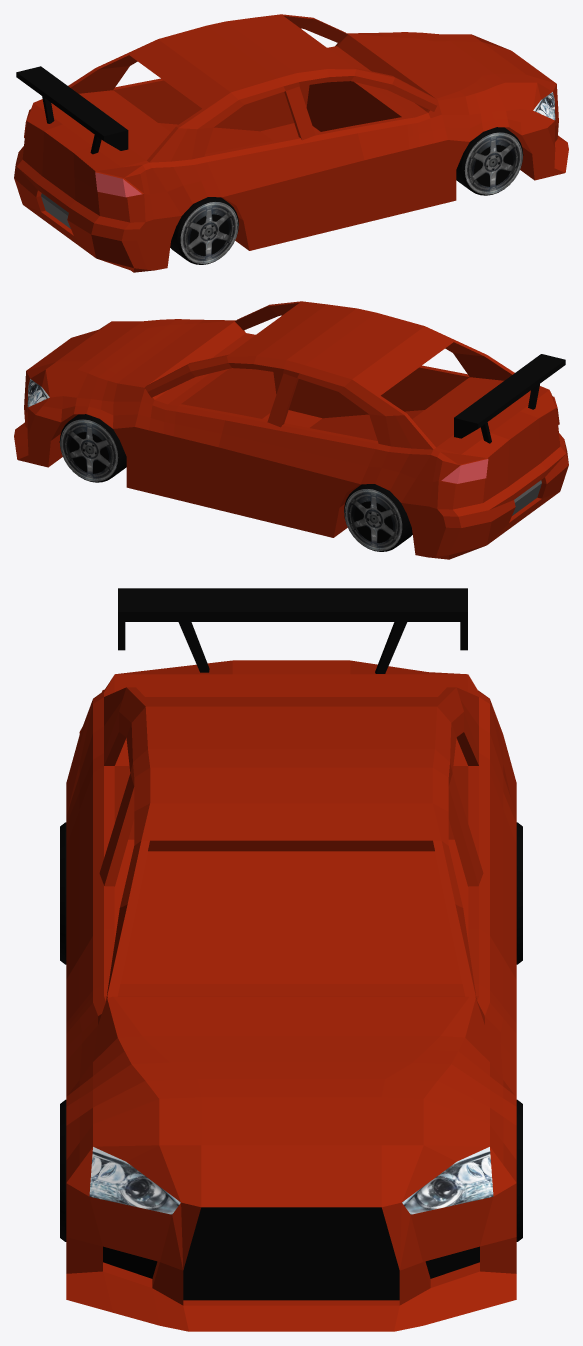
Rendered from evo.fbx.
3 views of the same model, one above another, from view 1: azimuth 30°, elevation 25°; view 2: azimuth 150°, elevation 25°; view 3: azimuth 270°, elevation 25° (orthographic). The views are drawn at different scales.
Visible parts, largest first — view 1: evo, back_right.011, front_right.011; view 2: evo, back_left.011, front_left.011; view 3: evo, back_left.011, back_right.011, front_left.011, front_right.011.
Boxes of the visible parts, left/top/right/bottom form: evo: left=14, top=14, right=568, bottom=272; back_right.011: left=170, top=197, right=238, bottom=264; front_right.011: left=456, top=127, right=523, bottom=195; evo: left=14, top=301, right=568, bottom=559; back_left.011: left=344, top=484, right=412, bottom=551; front_left.011: left=59, top=414, right=126, bottom=482; evo: left=66, top=588, right=516, bottom=1331; back_left.011: left=516, top=822, right=522, bottom=964; back_right.011: left=60, top=822, right=66, bottom=964; front_left.011: left=516, top=1099, right=522, bottom=1241; front_right.011: left=60, top=1099, right=66, bottom=1241.
Size of the model in its own units: 317 by 91.92 by 130.
